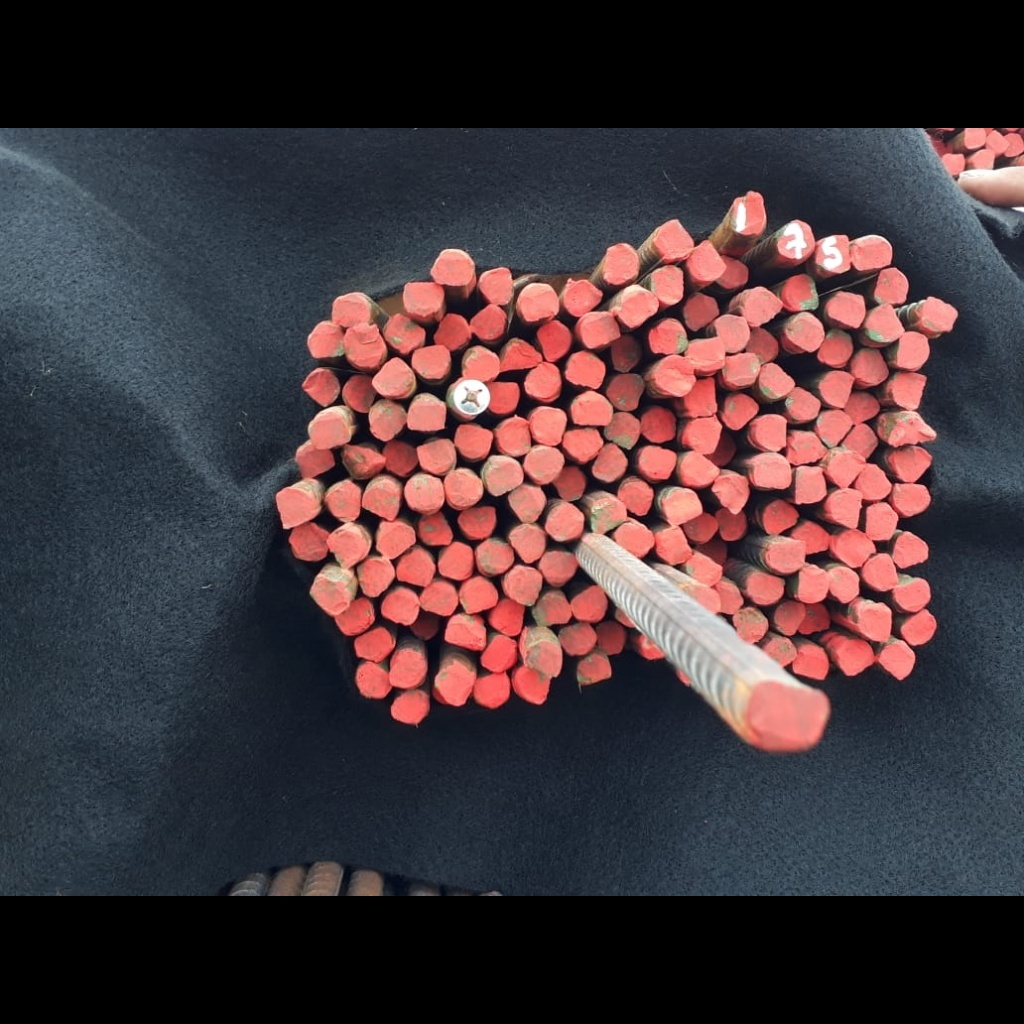dipstick: (739, 681, 831, 753), (276, 487, 322, 530), (381, 314, 425, 357), (370, 357, 415, 397), (343, 323, 385, 365), (435, 661, 474, 706), (686, 240, 727, 281), (653, 219, 694, 260), (878, 638, 916, 682), (342, 442, 387, 479), (864, 303, 905, 343), (656, 356, 696, 396), (288, 522, 328, 562), (528, 406, 567, 447), (326, 530, 367, 569), (617, 290, 660, 327), (431, 249, 474, 286), (731, 191, 767, 235), (563, 278, 603, 317), (564, 351, 604, 390), (602, 243, 640, 284), (823, 452, 865, 489), (835, 530, 877, 567), (712, 474, 749, 516), (887, 417, 937, 448), (459, 576, 498, 615), (356, 558, 395, 597), (893, 446, 933, 484), (786, 312, 824, 352), (648, 317, 688, 355), (507, 485, 547, 523), (662, 489, 703, 526), (506, 565, 542, 607), (745, 288, 784, 326), (524, 640, 563, 678), (508, 523, 546, 562), (485, 458, 524, 496), (532, 589, 571, 627), (310, 578, 349, 616), (362, 482, 400, 521), (335, 598, 375, 635), (331, 293, 372, 329), (403, 282, 445, 317), (778, 220, 816, 258), (854, 464, 892, 502), (603, 412, 641, 450), (837, 638, 874, 677), (825, 291, 864, 328), (713, 314, 750, 353), (591, 442, 628, 481), (606, 373, 645, 410), (545, 503, 584, 540), (437, 541, 474, 580), (396, 549, 435, 586), (462, 345, 501, 382), (536, 321, 572, 361), (445, 467, 481, 507), (432, 313, 472, 349), (851, 235, 892, 270), (571, 391, 612, 426), (447, 377, 482, 418), (765, 539, 807, 573), (685, 338, 727, 372), (524, 360, 561, 398), (480, 636, 518, 673), (307, 321, 345, 358), (892, 530, 928, 569), (721, 394, 760, 430), (655, 526, 691, 565), (412, 344, 451, 380), (303, 367, 339, 406), (752, 454, 792, 489), (404, 477, 444, 512), (524, 448, 565, 482), (785, 432, 827, 465), (500, 341, 543, 373), (489, 598, 526, 635), (473, 672, 510, 709), (370, 405, 407, 442), (862, 553, 898, 591), (582, 313, 620, 349), (538, 551, 576, 587), (520, 285, 558, 321), (819, 369, 854, 408), (817, 409, 852, 448), (721, 352, 760, 387), (681, 451, 720, 486), (608, 333, 643, 372), (830, 489, 864, 529), (615, 523, 655, 557), (563, 427, 603, 461), (479, 267, 513, 307), (416, 440, 456, 474), (310, 416, 350, 450), (684, 376, 717, 417), (921, 296, 958, 332), (732, 608, 769, 644), (759, 362, 795, 399), (571, 585, 607, 622), (355, 661, 391, 698), (892, 372, 927, 410), (840, 424, 878, 459), (853, 347, 888, 385), (816, 234, 850, 273), (858, 603, 892, 642), (790, 521, 829, 555), (326, 483, 360, 522), (498, 416, 531, 456), (453, 424, 493, 457), (873, 268, 909, 304), (684, 294, 720, 330), (590, 498, 626, 534), (758, 363, 795, 398), (639, 408, 676, 443), (560, 622, 597, 657), (895, 331, 929, 369), (893, 483, 931, 517), (826, 566, 860, 604), (651, 266, 685, 304), (639, 446, 677, 480), (296, 446, 334, 480), (456, 506, 495, 539), (376, 524, 415, 557), (840, 393, 881, 424), (894, 578, 930, 613), (900, 610, 936, 645), (817, 329, 853, 364), (792, 644, 828, 679), (785, 386, 821, 421), (687, 417, 721, 454), (354, 626, 391, 660), (866, 503, 899, 541), (793, 465, 826, 503), (389, 654, 427, 687), (745, 573, 784, 605), (420, 583, 459, 615), (785, 275, 819, 311), (762, 501, 798, 535), (478, 540, 514, 574), (383, 440, 417, 476), (745, 326, 778, 363), (418, 511, 453, 545), (444, 623, 485, 652), (617, 482, 653, 515), (576, 653, 613, 685), (389, 695, 431, 723), (713, 507, 747, 541), (796, 568, 829, 603), (715, 253, 748, 288), (551, 467, 584, 502), (471, 304, 504, 339), (755, 414, 786, 451), (518, 668, 550, 703), (761, 638, 798, 668), (407, 403, 445, 432), (798, 601, 830, 635), (774, 601, 806, 635), (345, 376, 376, 411), (487, 381, 519, 414), (713, 580, 743, 615), (687, 554, 722, 584), (684, 512, 717, 543), (706, 431, 735, 465), (595, 622, 625, 654), (689, 585, 719, 613), (410, 612, 438, 639), (941, 152, 964, 176), (986, 131, 1009, 154), (640, 635, 662, 659), (616, 606, 636, 631), (963, 129, 986, 149), (973, 150, 995, 170), (1004, 133, 1021, 156)
